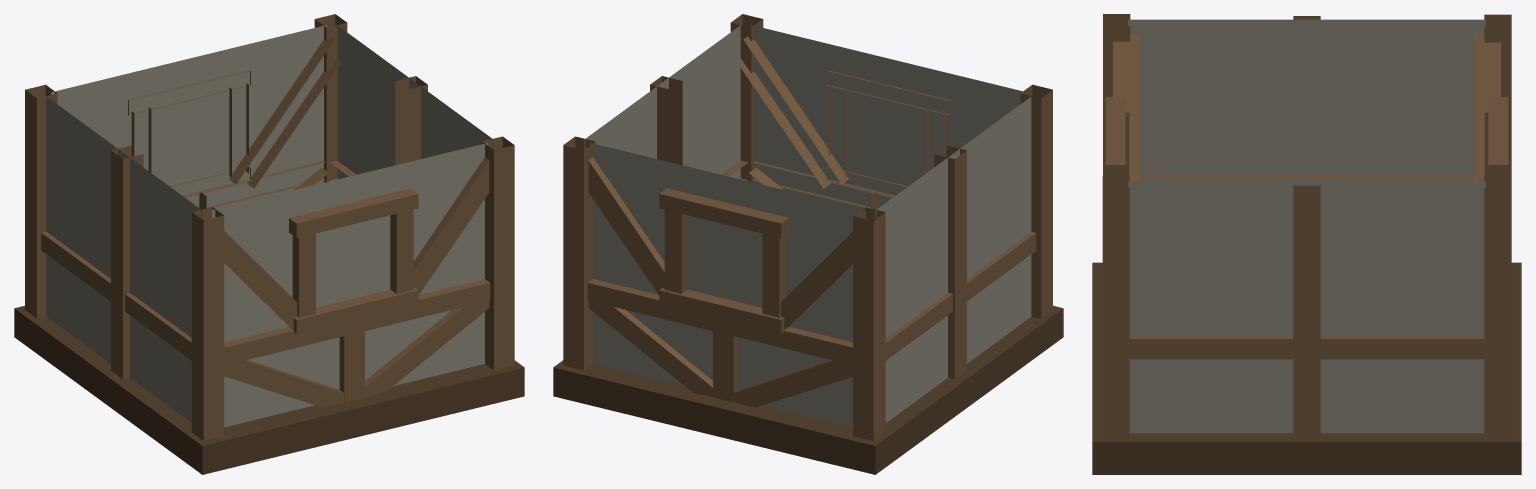
File: M_HouseTower_1F.fbx
3 views of the same model, side by side, from view 1: azimuth 30°, elevation 25°; view 2: azimuth 150°, elevation 25°; view 3: azimuth 270°, elevation 25° (orthographic). The views are drawn at different scales.
Visible parts, largest first — view 1: pCube6, pCube112, pCube128, Sol, pCube5, pCube131, pCube16, pCube20, pCube111, pCube130, pCube45, pCube129 (+12 smaller); view 2: pCube112, pCube6, pCube128, Sol, pCube5, pCube111, pCube17, pCube131, pCube116, pCube130, pCube119, pCube129 (+12 smaller); view 3: pCube5, pCube128, Sol, pCube21, pCube16, pCube17, pCube52, pCube46, pCube117, pCube111, pCube129, pCube114 (+2 smaller).
Boxes of the visible parts, <box> form: pCube6: <box>212,143,487,427</box>; pCube112: <box>51,25,326,208</box>; pCube128: <box>46,96,202,422</box>; Sol: <box>14,306,524,474</box>; pCube5: <box>337,25,493,178</box>; pCube131: <box>191,207,224,440</box>; pCube16: <box>482,136,514,370</box>; pCube20: <box>224,279,490,365</box>; pCube111: <box>25,84,57,318</box>; pCube130: <box>111,145,143,379</box>; pCube45: <box>413,157,489,294</box>; pCube129: <box>41,231,191,360</box>; pCube112: <box>590,143,865,426</box>; pCube6: <box>751,25,1026,208</box>; pCube128: <box>875,97,1031,422</box>; Sol: <box>553,305,1063,474</box>; pCube5: <box>584,25,740,178</box>; pCube111: <box>853,207,885,441</box>; pCube17: <box>563,136,595,370</box>; pCube131: <box>1020,84,1052,318</box>; pCube116: <box>587,279,852,365</box>; pCube130: <box>934,145,966,379</box>; pCube119: <box>588,157,664,294</box>; pCube129: <box>885,231,1036,360</box>; pCube5: <box>1128,182,1485,433</box>; pCube128: <box>1128,19,1485,181</box>; Sol: <box>1092,262,1521,474</box>; pCube21: <box>1129,336,1484,359</box>; pCube16: <box>1102,176,1129,438</box>; pCube17: <box>1484,176,1511,438</box>; pCube52: <box>1293,185,1320,437</box>; pCube46: <box>1113,34,1139,181</box>; pCube117: <box>1474,34,1500,181</box>; pCube111: <box>1484,14,1511,175</box>; pCube129: <box>1140,174,1473,178</box>; pCube114: <box>1488,97,1508,175</box>.
Bounding box in the file's own units: 3.8 × 2.81 × 3.85.
